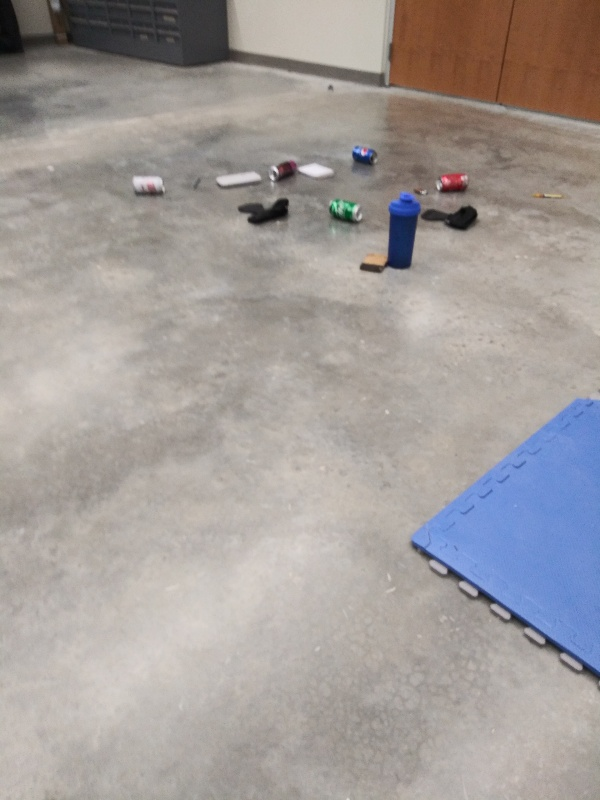can: (326, 196, 364, 224), (130, 173, 171, 198), (267, 158, 299, 183), (433, 171, 471, 192), (350, 144, 379, 166)
